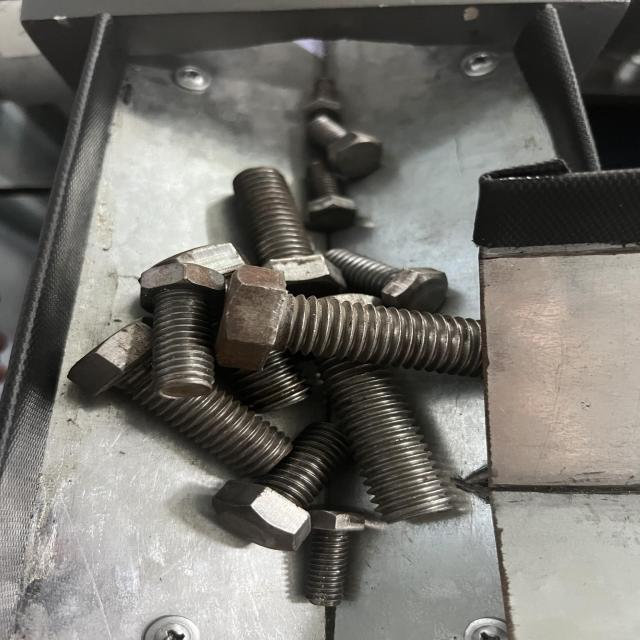bolt: (213, 265, 491, 374), (134, 262, 224, 396), (306, 509, 360, 602)
